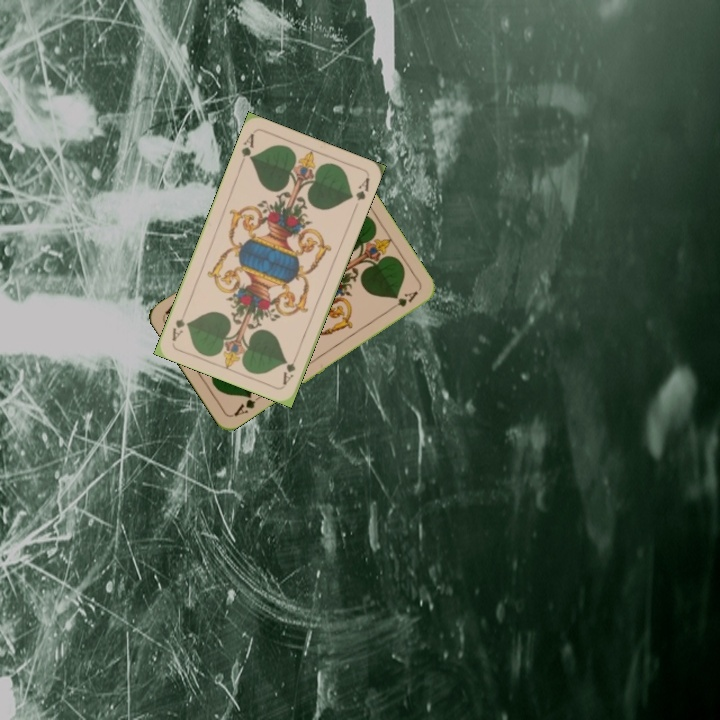GA: (230, 390, 265, 419), (278, 349, 300, 387), (236, 129, 257, 168)
